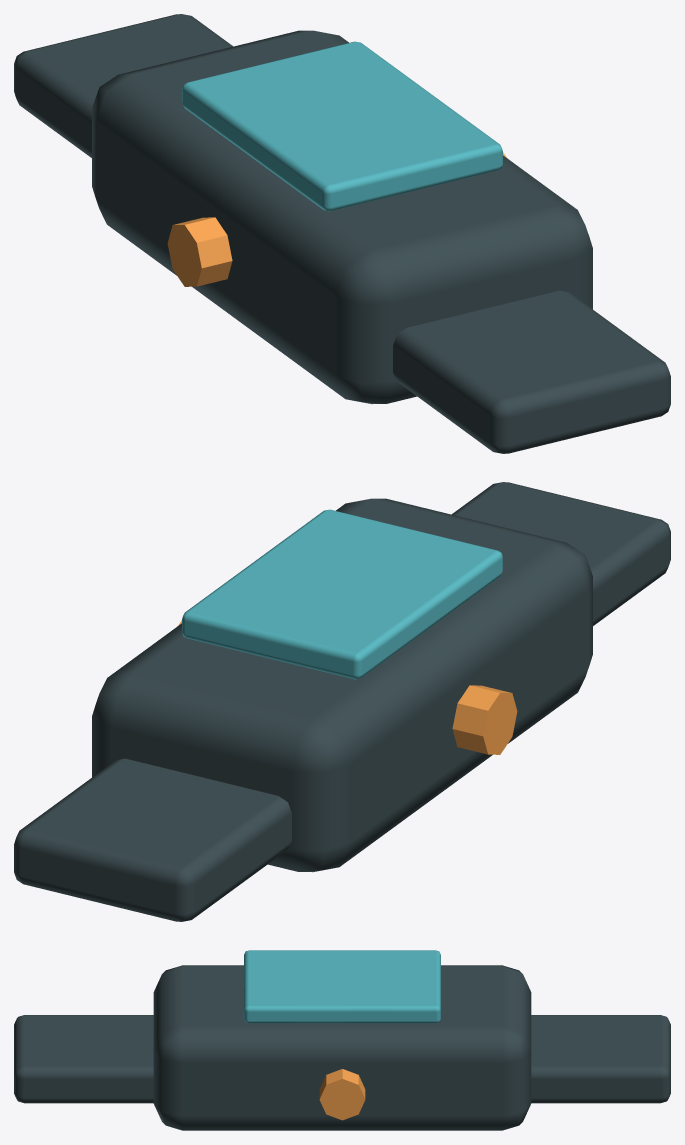
The model's file is diving-and-underwater-salvage-dive-computer-console-cc8e4288__28448.glb.
The picture shows the model from 3 angles, top to bottom: view 1: azimuth 30°, elevation 25°; view 2: azimuth 150°, elevation 25°; view 3: azimuth 270°, elevation 25°; orthographic projection. The views are drawn at different scales.
Visible parts, largest first — view 1: dive-computer-console-dark, dive-computer-console-glass, dive-computer-console-orange; view 2: dive-computer-console-dark, dive-computer-console-glass, dive-computer-console-orange; view 3: dive-computer-console-dark, dive-computer-console-glass, dive-computer-console-orange.
Boxes of the visible parts, x1,y1,x2,y2 form: dive-computer-console-dark: (14,14,670,453); dive-computer-console-glass: (182,41,502,211); dive-computer-console-orange: (167,152,506,286); dive-computer-console-dark: (14,482,670,921); dive-computer-console-glass: (182,509,502,679); dive-computer-console-orange: (178,620,517,754); dive-computer-console-dark: (14,965,670,1130); dive-computer-console-glass: (244,950,440,1023); dive-computer-console-orange: (319,1069,365,1120).
Size of the model in its own units: 0.149 by 0.082 by 0.4.
